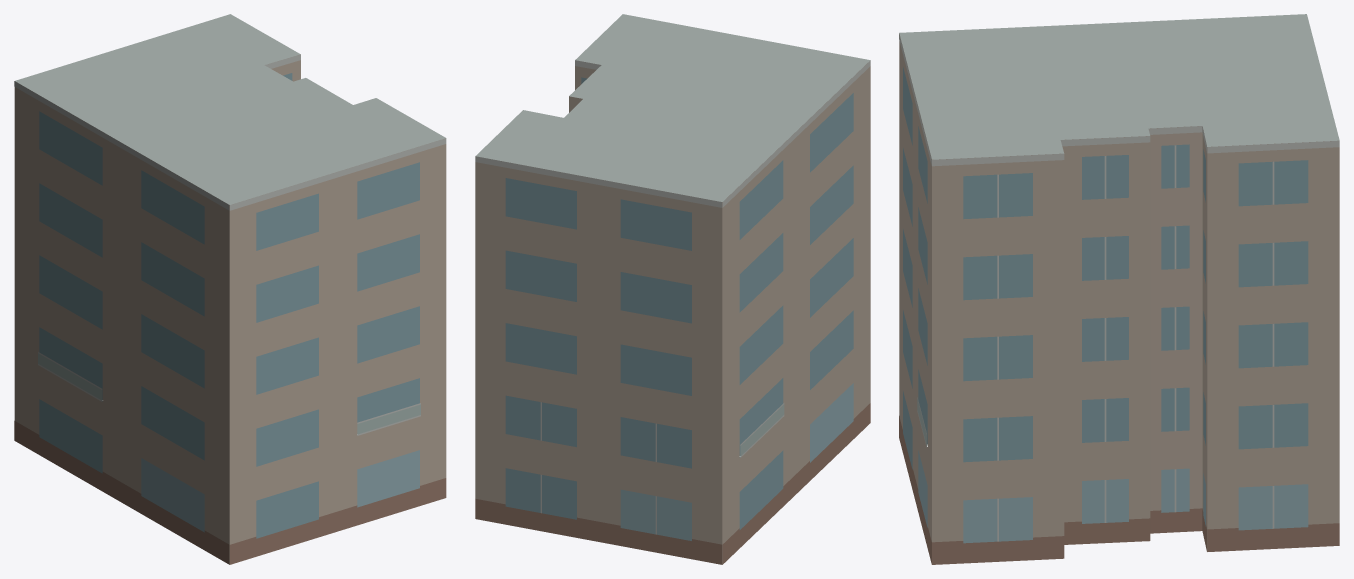
Rendered from survey-upis-33012159.glb.
3 renders of one model, left to right at view 1: azimuth 30°, elevation 25°; view 2: azimuth 150°, elevation 25°; view 3: azimuth 270°, elevation 25°, orthographic. The views are drawn at different scales.
Visible parts, largest first — view 1: survey-upis-33012159.tmp; view 2: survey-upis-33012159.tmp; view 3: survey-upis-33012159.tmp.
Part boxes in pixels (x1,y1,x2,y2): survey-upis-33012159.tmp: [14, 14, 446, 564]; survey-upis-33012159.tmp: [475, 14, 870, 564]; survey-upis-33012159.tmp: [899, 14, 1339, 564].
Bounding box in the file's own units: 11.74 × 15.2 × 14.99.
